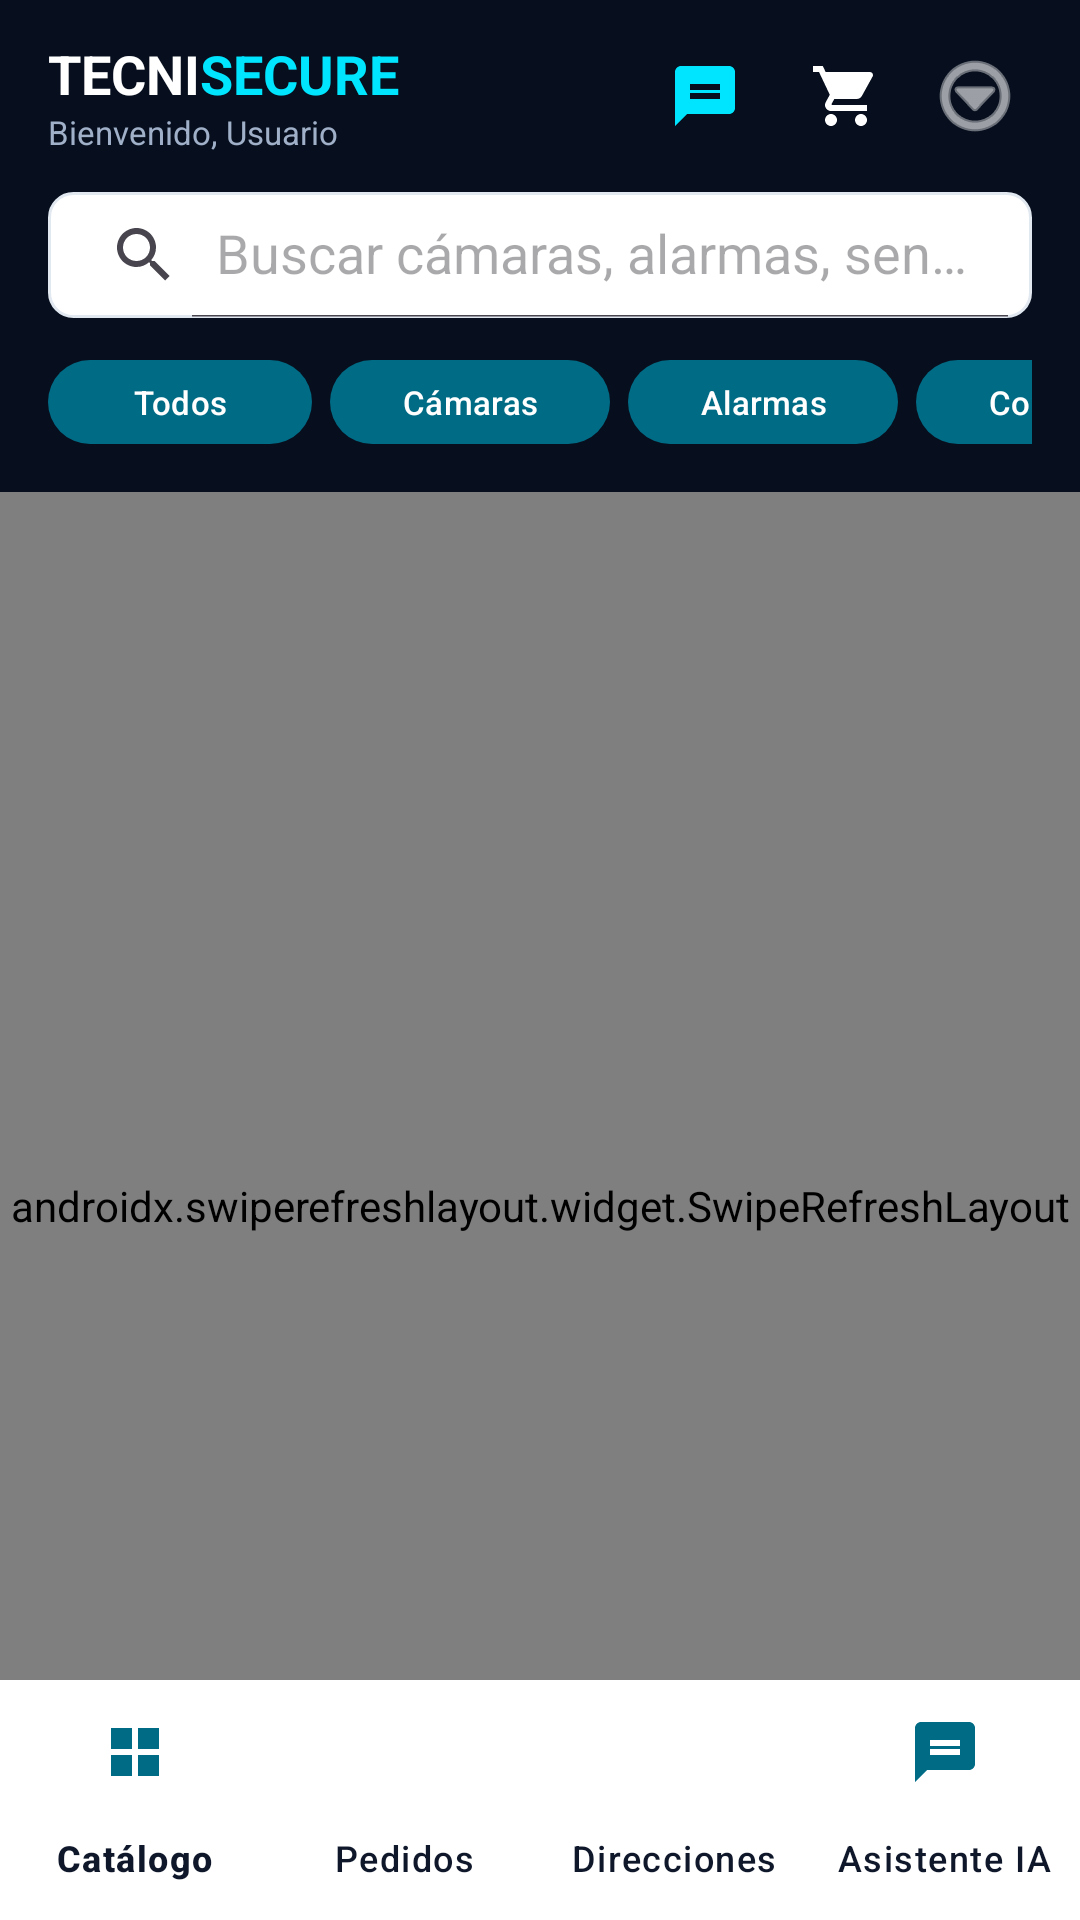

Named icons in this screenshot (1080 x 1920) and their centers, [x,y]:
Asistente IA: [705,96]
Carrito: [843,96]
Opciones: [975,96]
